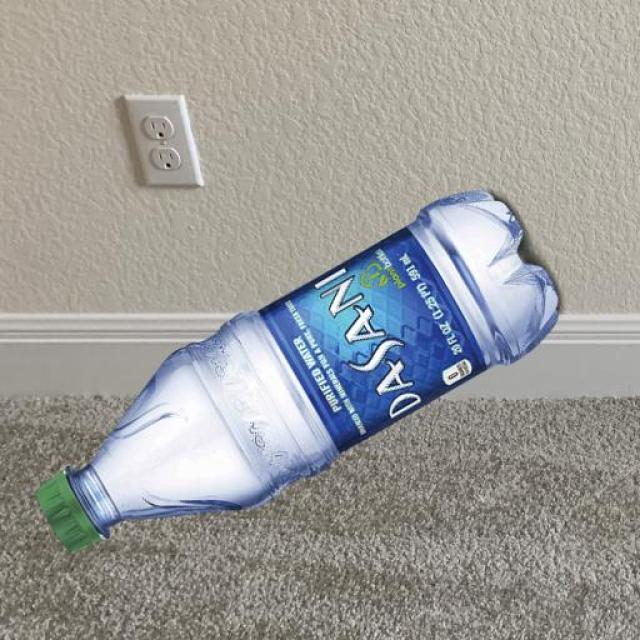litter: (29, 467, 126, 566)
